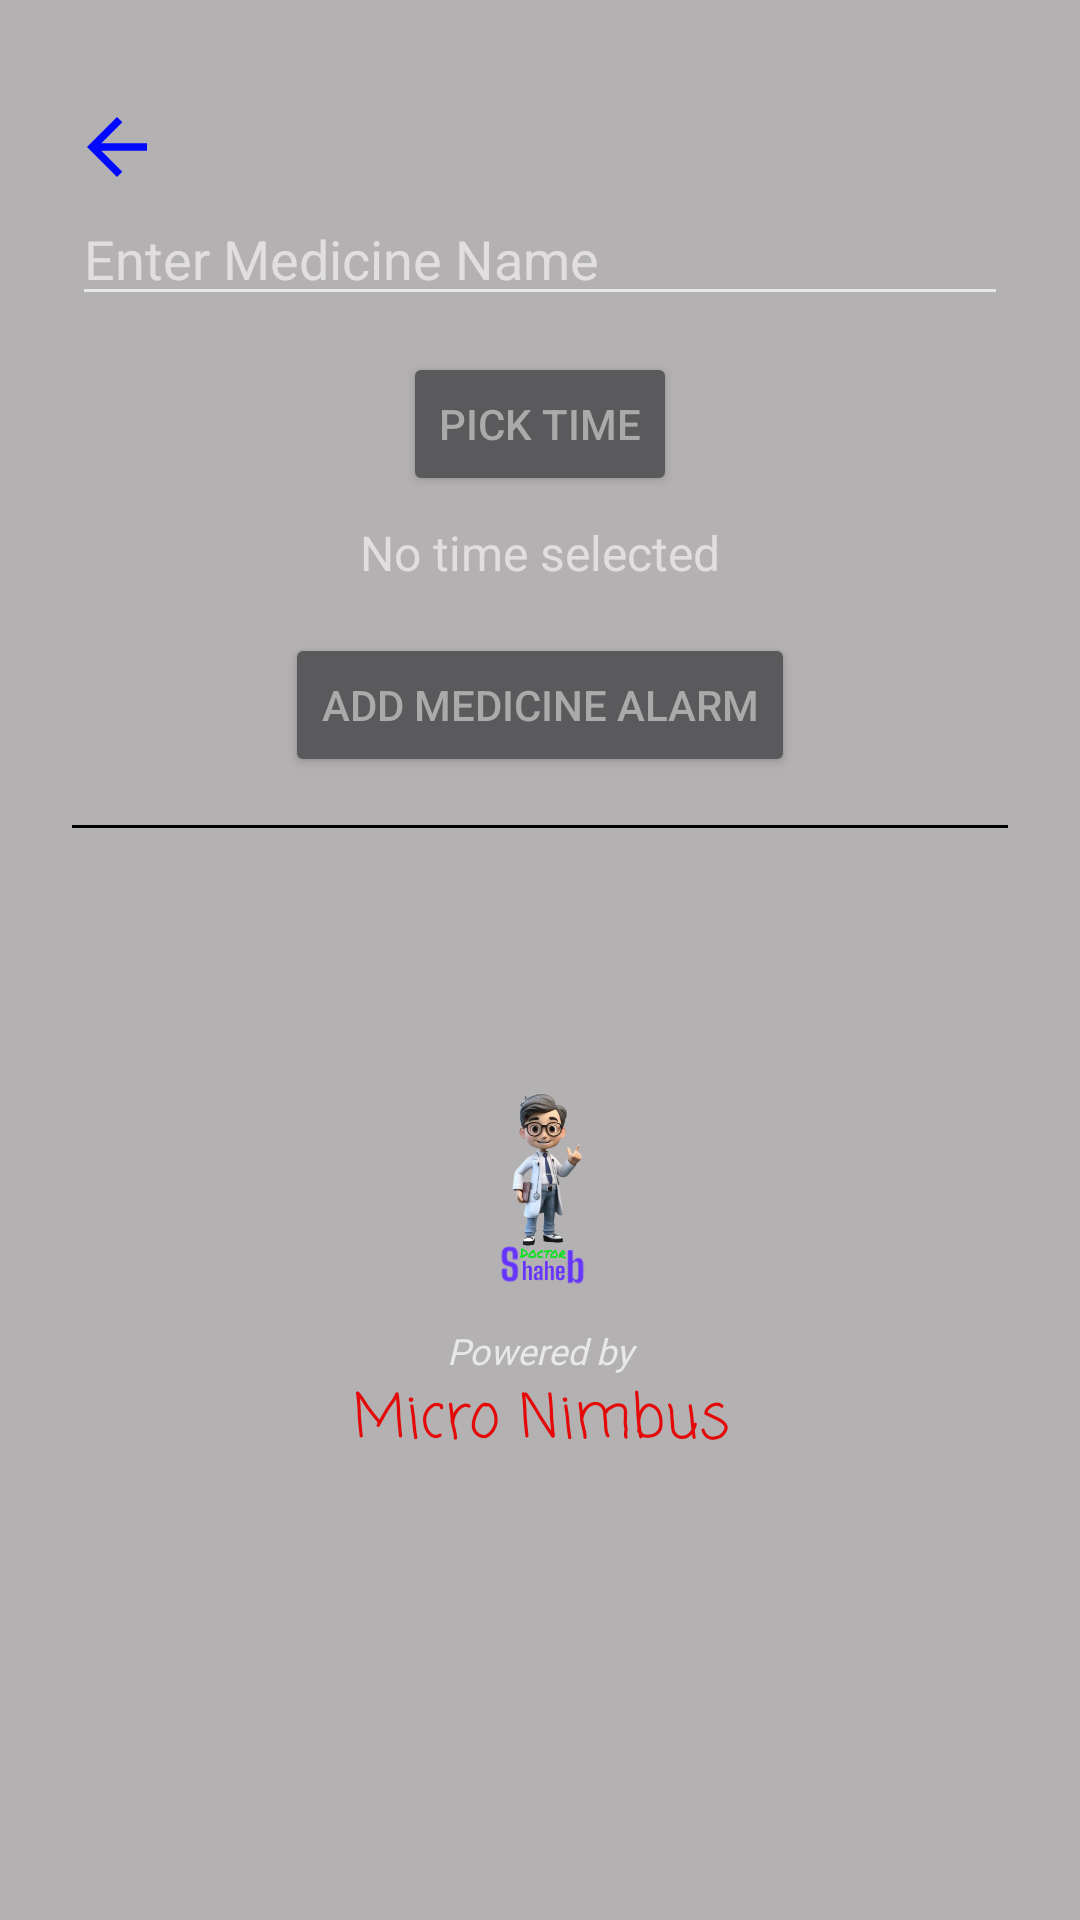

Screen size 1080x1920. Icon name, then its box in pixels as [x1,y1,x2,y2]:
back: [87,117,147,177]
